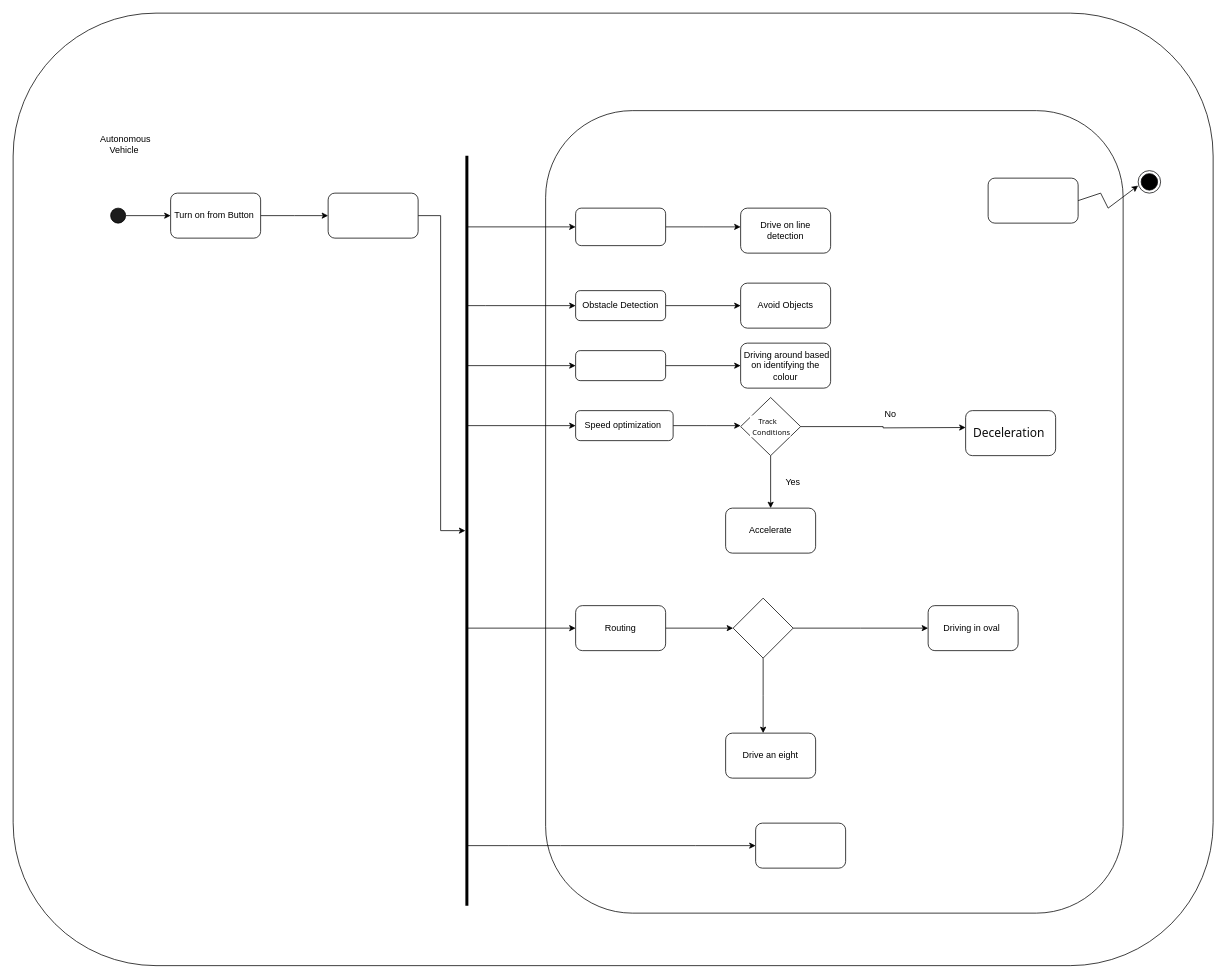
The diagram is 1226 pixels wide and 979 high, and some of its shapes have lost their labels. Each missing label, with the centre of its shape:
Car in Motion: [372,215]
Color Identification: [620,365]
Line Detection: [620,226]
Parking: [800,845]
Power Off: [1032,200]
predefined waypoints: [762,627]
